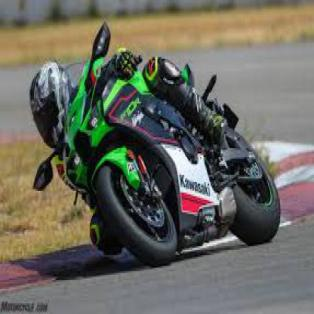Motocicleta: (72, 48, 286, 265)
